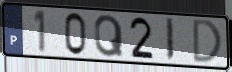0: (63, 11, 88, 56)
1: (33, 9, 47, 55)
2: (128, 16, 155, 61)
D: (192, 18, 224, 65)
I: (165, 17, 175, 63)
Q: (93, 13, 125, 59)
